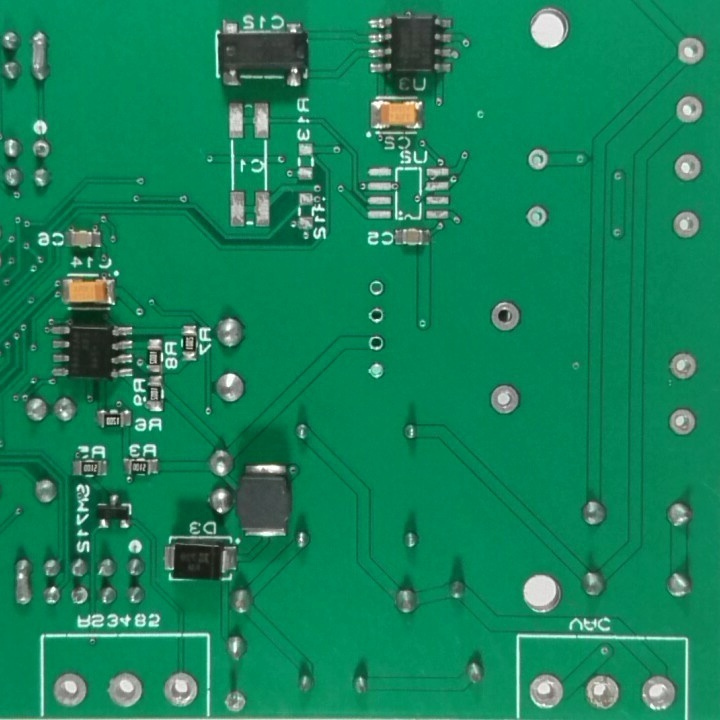F: (102, 669, 149, 712), (524, 667, 568, 712), (161, 666, 205, 710), (636, 670, 679, 714), (50, 666, 90, 713), (487, 378, 526, 422), (669, 149, 707, 191), (584, 671, 623, 711), (674, 32, 709, 75), (488, 298, 524, 338), (670, 92, 710, 128), (670, 206, 705, 246), (667, 404, 700, 445), (667, 350, 701, 389), (521, 144, 556, 174), (221, 687, 252, 717), (523, 201, 551, 234), (69, 583, 90, 612), (32, 135, 54, 160), (366, 304, 387, 329), (365, 360, 387, 383), (366, 279, 389, 300), (365, 332, 385, 356)
P: (27, 25, 50, 92), (11, 551, 36, 612)
